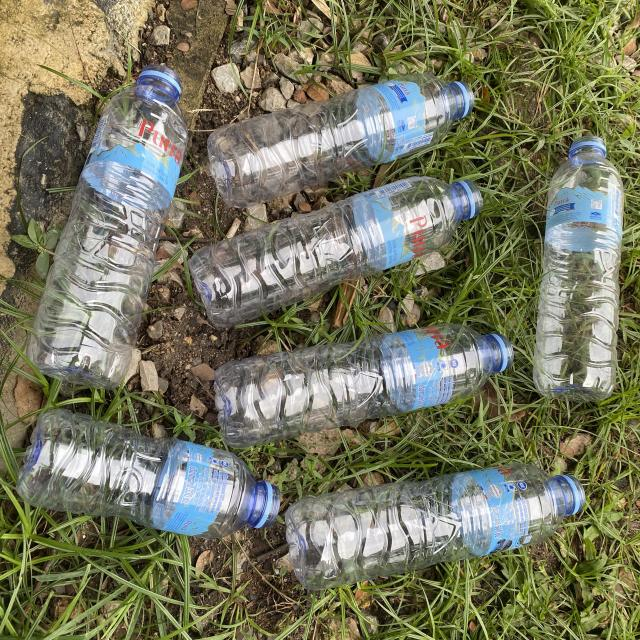plastik: (28, 65, 189, 389), (189, 176, 482, 328), (285, 464, 585, 590), (214, 324, 514, 448), (208, 74, 474, 208), (16, 409, 280, 539), (532, 136, 624, 401)
